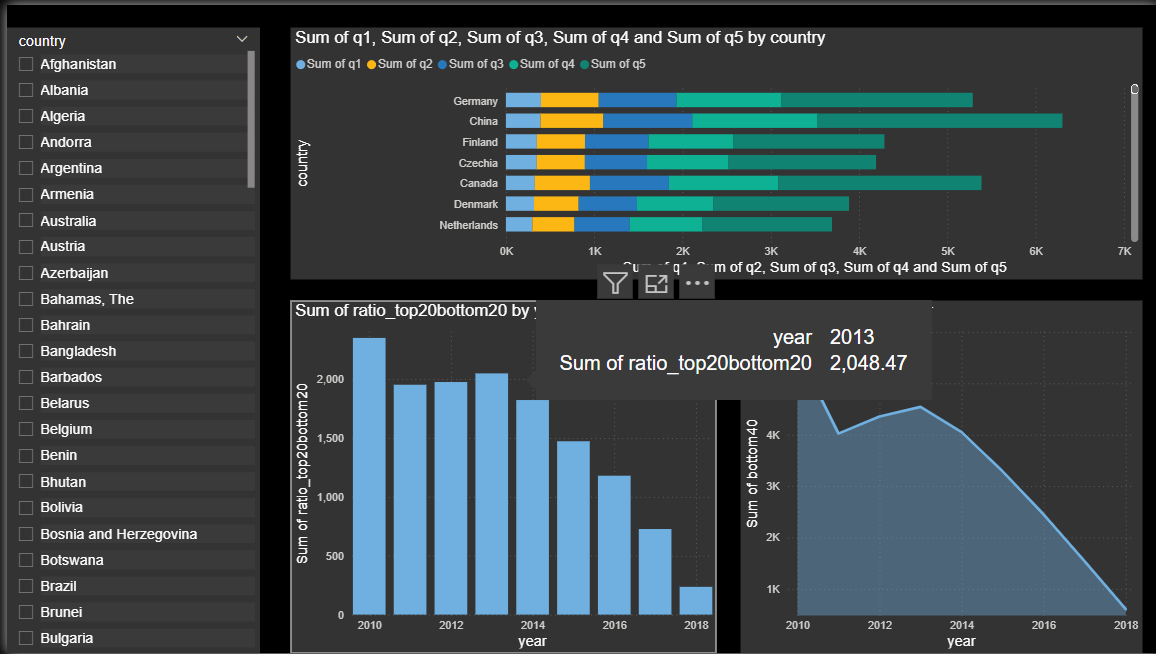

Layout of this report page (visuals, bound fields, positions):
{"tool":"powerbi","page":{"name":"Page 2","canvas":[1280,720],"ordinal":1},"visuals":[{"type":"slicer","fields":{"Values":["WIID_Final_Cleaned_2010_2024.country"]},"box":[0,25,280,695],"z":0},{"type":"barChart","fields":{"Y":["Sum(WIID_Final_Cleaned_2010_2024.q1)","Sum(WIID_Final_Cleaned_2010_2024.q2)","Sum(WIID_Final_Cleaned_2010_2024.q3)","Sum(WIID_Final_Cleaned_2010_2024.q4)","Sum(WIID_Final_Cleaned_2010_2024.q5)"],"Category":["WIID_Final_Cleaned_2010_2024.country"]},"box":[315,25,946.7,280],"z":1000},{"type":"areaChart","fields":{"Category":["WIID_Final_Cleaned_2010_2024.year"],"Y":["Sum(WIID_Final_Cleaned_2010_2024.bottom40)"]},"box":[815,328.3,446.7,391.7],"z":2000},{"type":"clusteredColumnChart","fields":{"Category":["WIID_Final_Cleaned_2010_2024.year"],"Y":["Sum(WIID_Final_Cleaned_2010_2024.ratio_top20bottom20)"]},"box":[315,328.3,473.3,391.7],"z":3000}]}

Visuals, with their boxes in screenshot pixels (x1, y1, x2, y2), scaled from the page's 1280x720 canvas onto the 1156x654 screenshot:
slicer - WIID_Final_Cleaned_2010_2024.country: select_region(0, 23, 253, 653)
barChart - Sum(WIID_Final_Cleaned_2010_2024.q1) x Sum(WIID_Final_Cleaned_2010_2024.q2): select_region(284, 23, 1139, 277)
areaChart - WIID_Final_Cleaned_2010_2024.year x Sum(WIID_Final_Cleaned_2010_2024.bottom40): select_region(736, 298, 1139, 653)
clusteredColumnChart - WIID_Final_Cleaned_2010_2024.year x Sum(WIID_Final_Cleaned_2010_2024.ratio_top20bottom20): select_region(284, 298, 712, 653)
